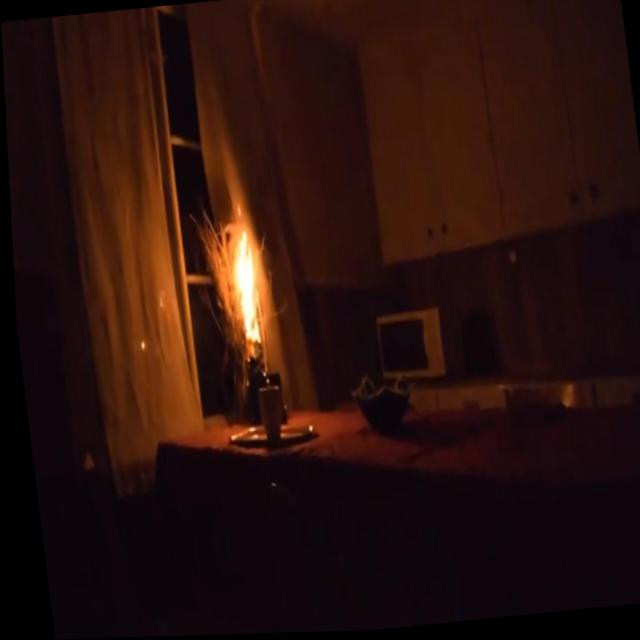fire: (218, 194, 271, 349)
